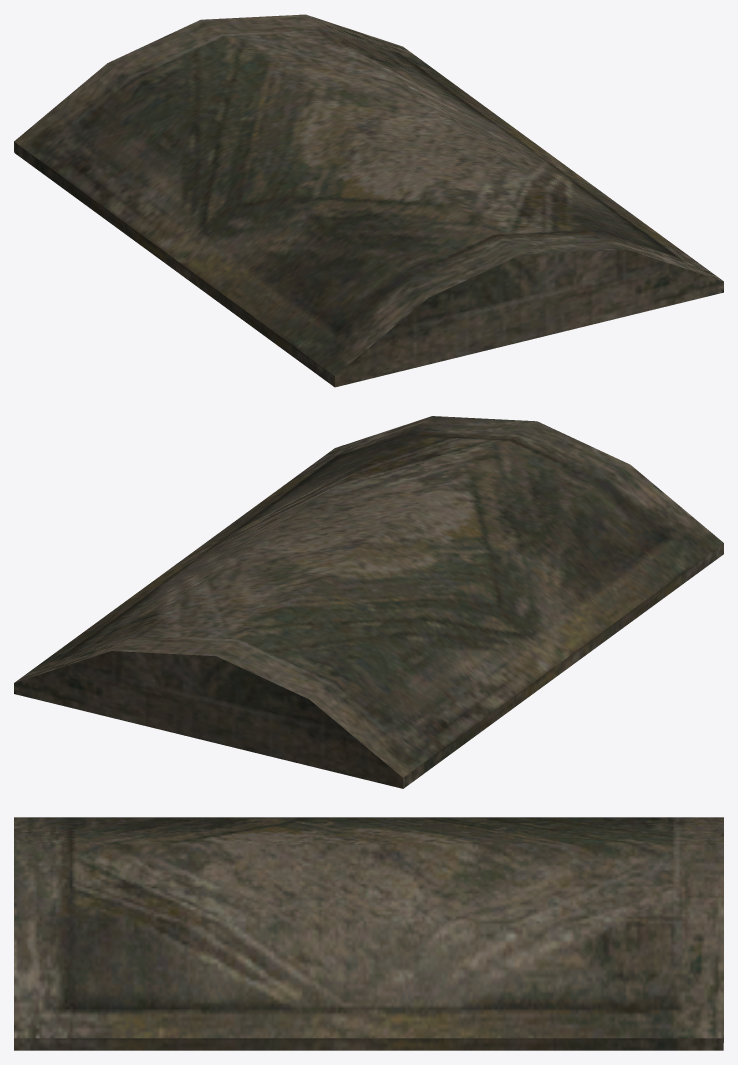
Rendered from ct_chest1a.glb.
3 renders of one model, top to bottom at view 1: azimuth 30°, elevation 25°; view 2: azimuth 150°, elevation 25°; view 3: azimuth 270°, elevation 25°, orthographic. The views are drawn at different scales.
Visible parts, largest first — view 1: ct_chest1a-col; view 2: ct_chest1a-col; view 3: ct_chest1a-col.
Boxes of the visible parts, x1,y1,x2,y2 form: ct_chest1a-col: [14, 14, 723, 387]; ct_chest1a-col: [14, 416, 723, 788]; ct_chest1a-col: [14, 817, 723, 1050].
Bounding box in the file's own units: 1.55 × 0.3325 × 2.21.
2 materials, 2 textured.
